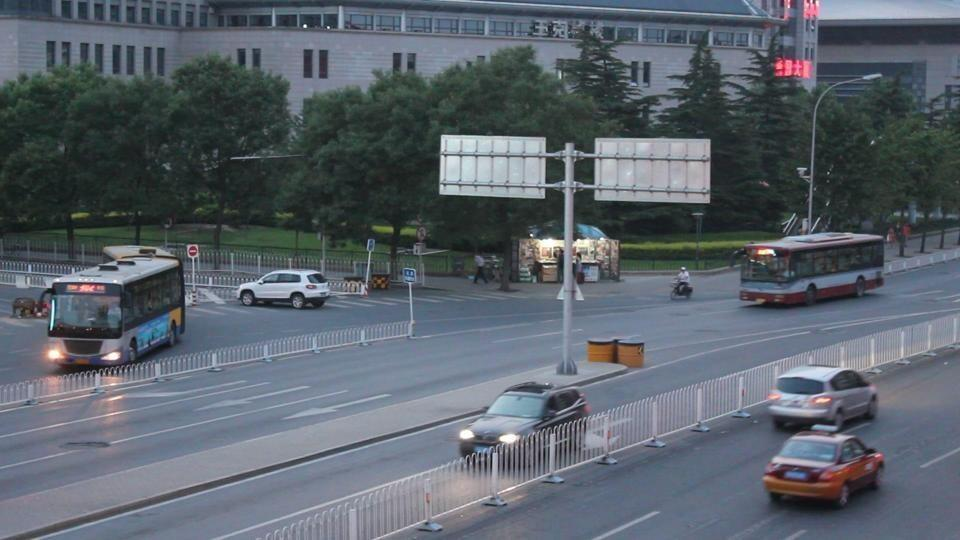car: (456, 380, 592, 459), (761, 432, 885, 509), (766, 365, 882, 430), (235, 270, 331, 309), (11, 286, 54, 318)
